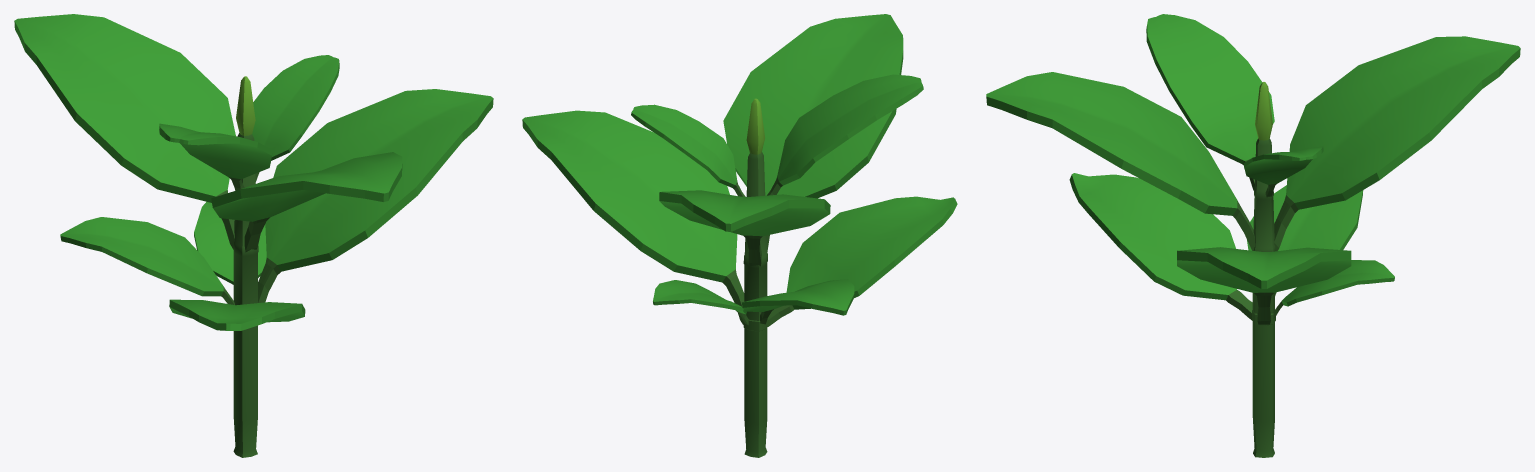
File: Plant.fbx
3 renders of one model, left to right at view 1: azimuth 30°, elevation 25°; view 2: azimuth 150°, elevation 25°; view 3: azimuth 270°, elevation 25°, orthographic. The views are drawn at different scales.
Visible parts, largest first — view 1: Plant; view 2: Plant; view 3: Plant.
Boxes of the visible parts, <box> form: Plant: <box>14,14,493,457</box>; Plant: <box>522,14,957,457</box>; Plant: <box>986,14,1520,457</box>.
Bounding box in the file's own units: 235 × 194 × 184.
1 material, 1 textured.
